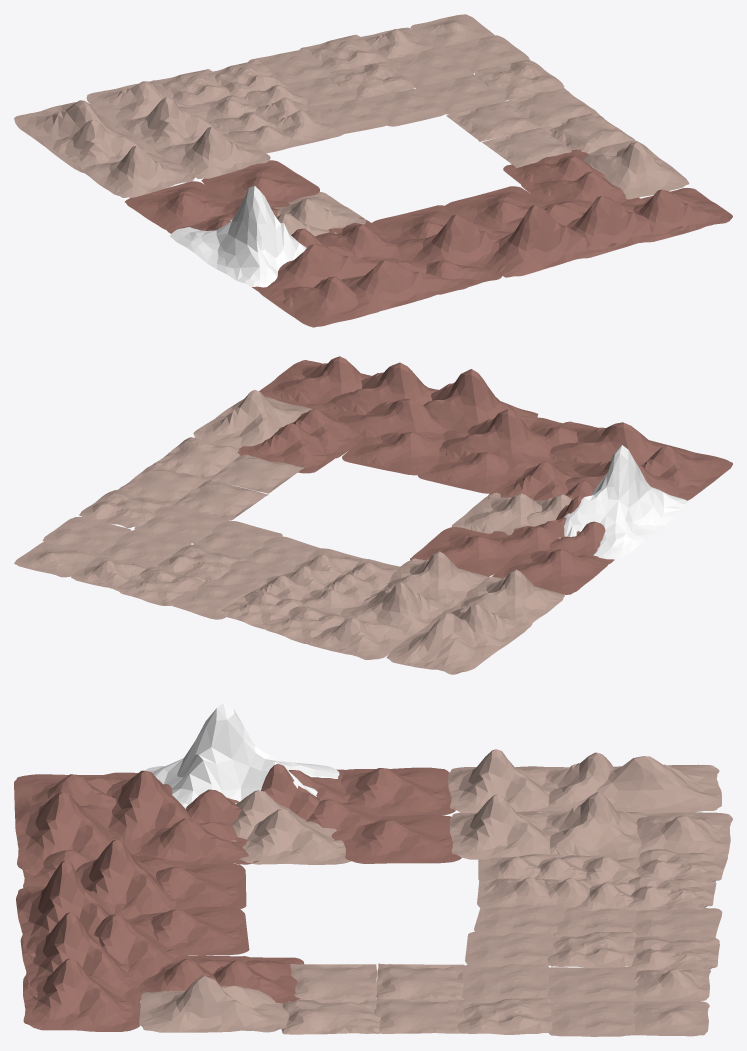
File: grounds.gltf
The picture shows the model from 3 angles, top to bottom: view 1: azimuth 30°, elevation 25°; view 2: azimuth 150°, elevation 25°; view 3: azimuth 270°, elevation 25°; orthographic projection. The views are drawn at different scales.
Visible parts, largest first — view 1: Ground_02 (15), Ground_02 (23), Ground_02 (25), Ground_02 (16), Ground_02 (24), Ground_02 (31), Ground_02 (22), Ground_02 (7), Ground_02 (17), Ground_02 (14), Ground_02 (35), Ground_02 (37) (+37 smaller); view 2: Ground_02 (15), Ground_02 (37), Ground_02 (24), Ground_02 (16), Ground_02 (17), Ground_02 (23), Ground_02 (25), Ground_02 (7), Ground_02 (10), Ground_02 (14), Ground_02 (12), Ground_02 (35) (+41 smaller); view 3: Ground_02 (15), Ground_02 (16), Ground_02 (17), Ground_02 (37), Ground_02 (25), Ground_02 (24), Ground_02 (35), Ground_02 (12), Ground_02 (4), Ground_02 (14), Ground_02 (22), Ground_02 (7) (+42 smaller).
Part boxes in pixels (box(x1,y1,x2,y2)): Ground_02 (15): box(170, 185, 306, 287); Ground_02 (23): box(481, 205, 617, 277); Ground_02 (25): box(340, 260, 475, 316); Ground_02 (16): box(582, 140, 689, 199); Ground_02 (24): box(390, 214, 511, 266); Ground_02 (31): box(252, 244, 400, 300); Ground_02 (22): box(567, 196, 683, 259); Ground_02 (7): box(78, 146, 195, 197); Ground_02 (17): box(633, 188, 732, 242); Ground_02 (14): box(125, 181, 231, 231); Ground_02 (35): box(153, 127, 270, 178); Ground_02 (37): box(14, 100, 157, 172); Ground_02 (15): box(559, 445, 687, 559); Ground_02 (37): box(386, 604, 532, 674); Ground_02 (24): box(439, 409, 552, 476); Ground_02 (16): box(193, 390, 312, 448); Ground_02 (17): box(259, 356, 370, 414); Ground_02 (23): box(423, 369, 538, 433); Ground_02 (25): box(549, 421, 695, 465); Ground_02 (7): box(459, 569, 564, 629); Ground_02 (10): box(342, 432, 445, 475); Ground_02 (14): box(492, 549, 608, 594); Ground_02 (12): box(340, 582, 454, 634); Ground_02 (35): box(371, 551, 487, 610); Ground_02 (15): box(146, 703, 339, 808); Ground_02 (16): box(139, 976, 288, 1032); Ground_02 (17): box(23, 958, 140, 1031); Ground_02 (37): box(536, 756, 721, 813); Ground_02 (25): box(15, 792, 116, 875); Ground_02 (24): box(76, 839, 186, 919); Ground_02 (35): box(449, 794, 565, 859); Ground_02 (12): box(536, 792, 646, 859); Ground_02 (4): box(343, 815, 461, 863); Ground_02 (14): box(341, 767, 455, 816); Ground_02 (22): box(20, 912, 141, 1001); Ground_02 (7): box(448, 749, 550, 812).
Bounding box in the file's own units: 0.7944 × 0.1262 × 0.8908.
4 materials, 4 textured.
